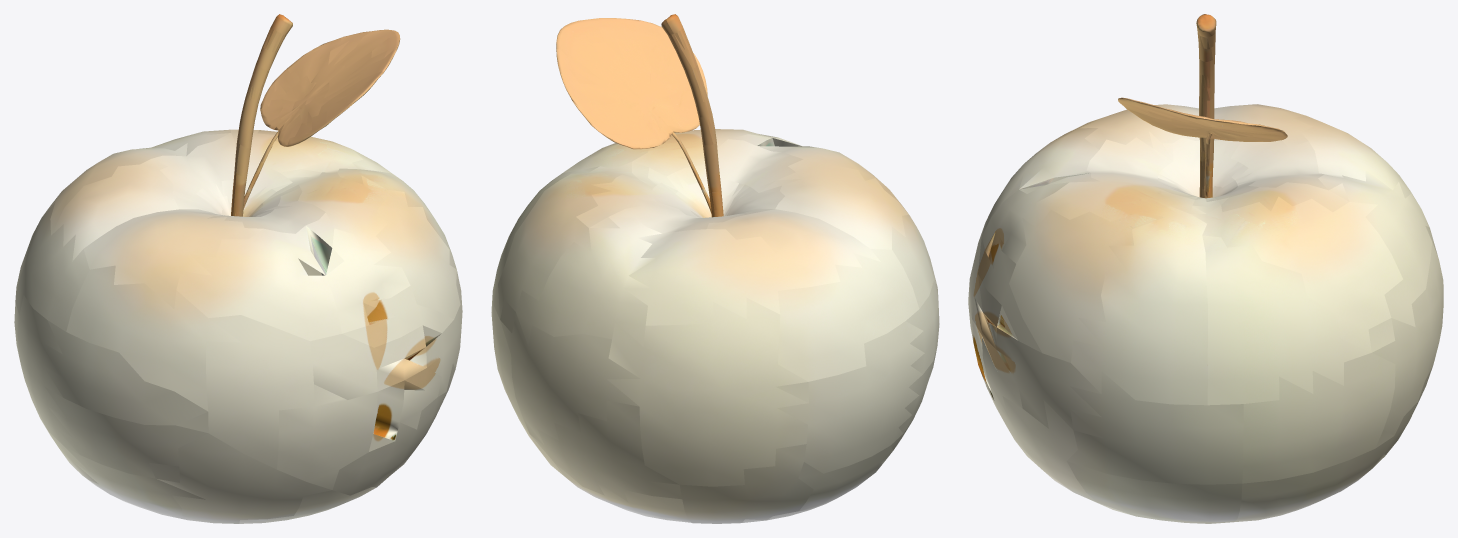
3 views of the same model, side by side, from view 1: azimuth 30°, elevation 25°; view 2: azimuth 150°, elevation 25°; view 3: azimuth 270°, elevation 25° (orthographic). The views are drawn at different scales.
Bounding box in the file's own units: 0.9005 × 1 × 0.8914.
1 material, 1 textured.
